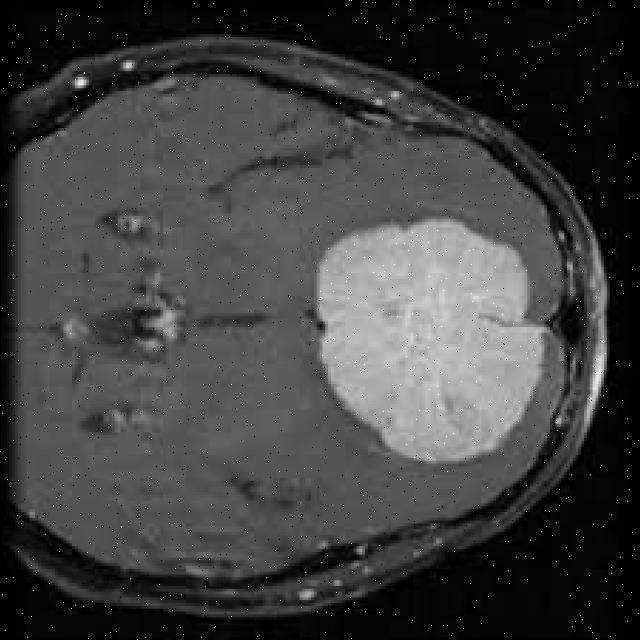Meningioma: (319, 220, 546, 460)
